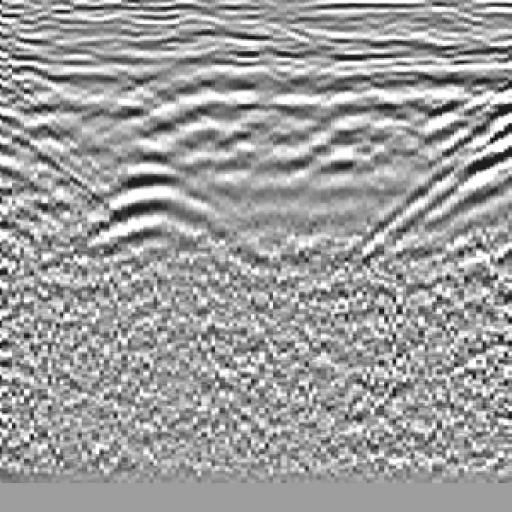metalic: (67, 138, 235, 275)
nonmetalic: (370, 76, 512, 285)
